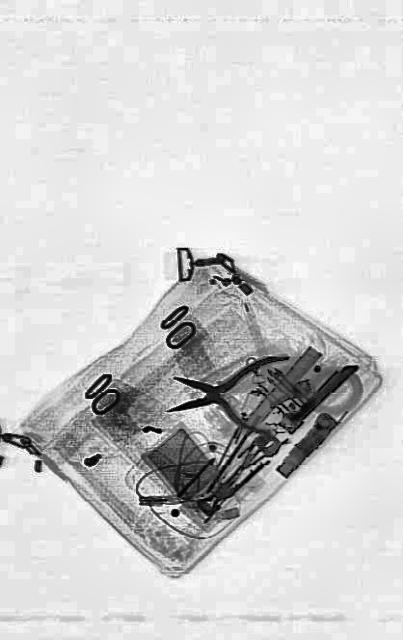Pliers: (164, 351, 290, 434)
